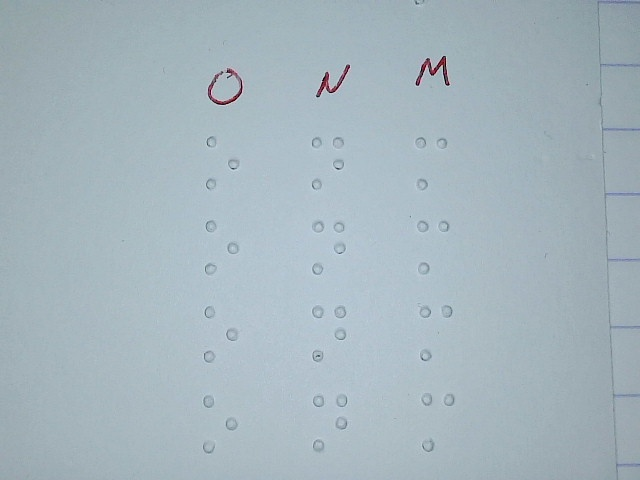M: (419, 392, 458, 453), (413, 134, 451, 191), (415, 218, 453, 275), (417, 304, 455, 361)
N: (310, 392, 350, 454), (308, 134, 346, 191), (308, 219, 346, 276), (309, 305, 347, 362)
O: (201, 304, 240, 365), (201, 394, 238, 454), (204, 135, 242, 192), (203, 218, 241, 275)
